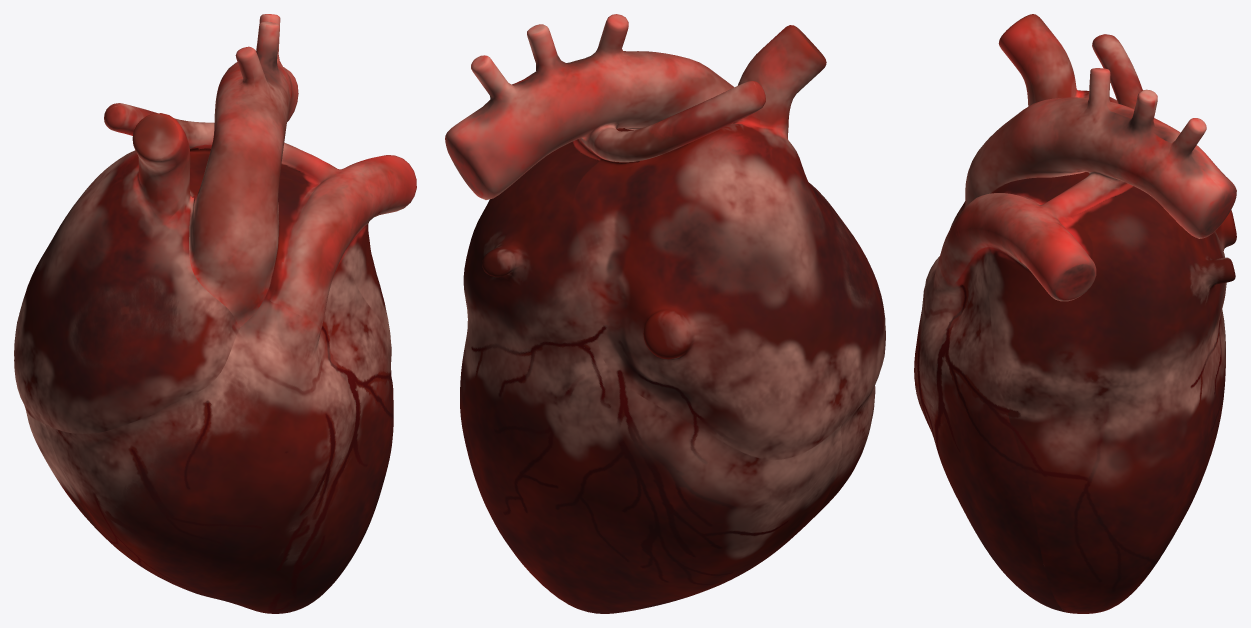
The picture shows the model from 3 angles, left to right: view 1: azimuth 30°, elevation 25°; view 2: azimuth 150°, elevation 25°; view 3: azimuth 270°, elevation 25°; orthographic projection. The views are drawn at different scales.
Visible parts, largest first — view 1: hart:ZBrush_defualt_group; view 2: hart:ZBrush_defualt_group; view 3: hart:ZBrush_defualt_group.
Boxes of the visible parts, <box> form: hart:ZBrush_defualt_group: <box>14,14,416,613</box>; hart:ZBrush_defualt_group: <box>445,14,885,613</box>; hart:ZBrush_defualt_group: <box>914,14,1236,613</box>.
Size of the model in its own units: 6.22 by 9.19 by 5.05.
1 material, 1 textured.
